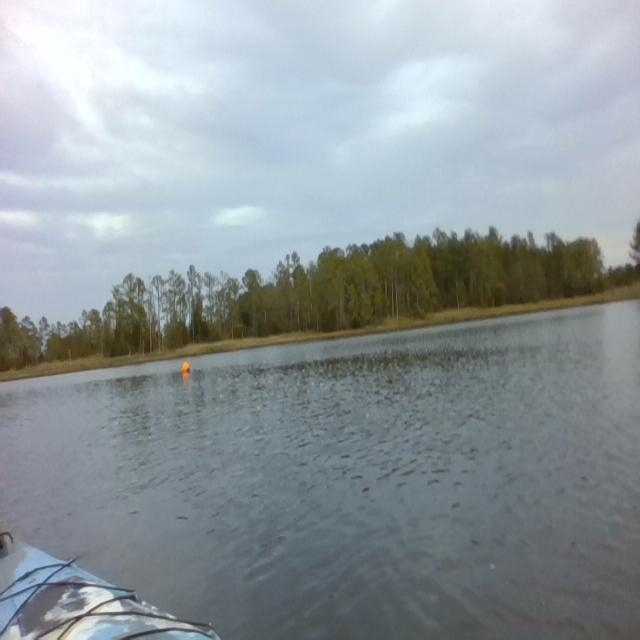Buoy: (181, 358, 192, 377)
